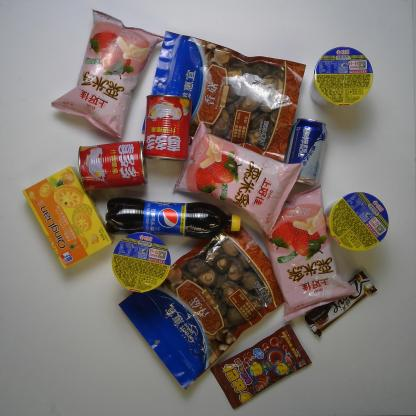Alcohol: (283, 114, 329, 187)
Candy: (208, 324, 315, 410)
Canned Food: (76, 138, 149, 195), (141, 92, 195, 164)
Chocolate: (303, 268, 378, 338)
Dessert: (22, 164, 116, 270)
Dried Food: (116, 222, 288, 392), (139, 29, 308, 164)
Drink: (101, 195, 244, 240)
Instant Noodles: (307, 44, 377, 110), (322, 190, 391, 253), (110, 229, 173, 295)
Puffed Food: (170, 119, 306, 238), (48, 7, 167, 141), (259, 182, 361, 324)
